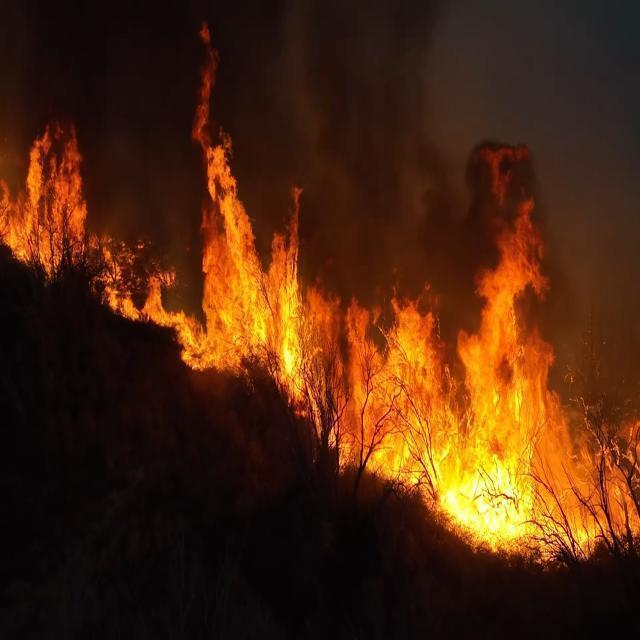Fire: (183, 22, 298, 382), (439, 194, 554, 529), (289, 298, 449, 487), (536, 375, 635, 551), (0, 113, 94, 297)
Smoke: (332, 8, 440, 262), (113, 7, 179, 204)
